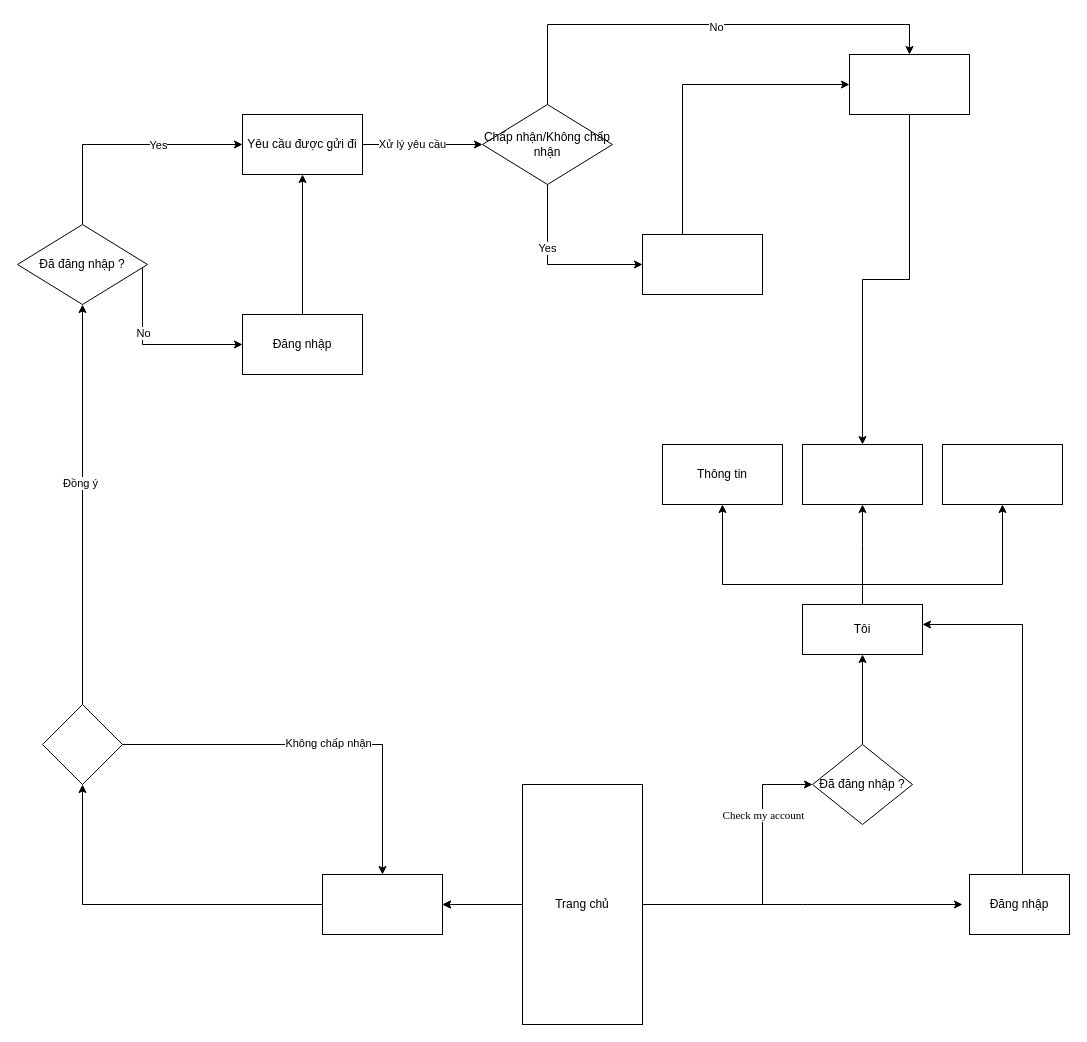
Some shapes in this 1087 by 1042 pixel diagram are drawn without their labels. The centre of each missing label's shape, as x and y in pixels:
Danh sách yêu cầu: the point at 862,474
Gửi thông báo: the point at 909,84
Gửi yêu cầu: the point at 382,904
Submit: the point at 702,264
Xác nhận gửi: the point at 82,744
